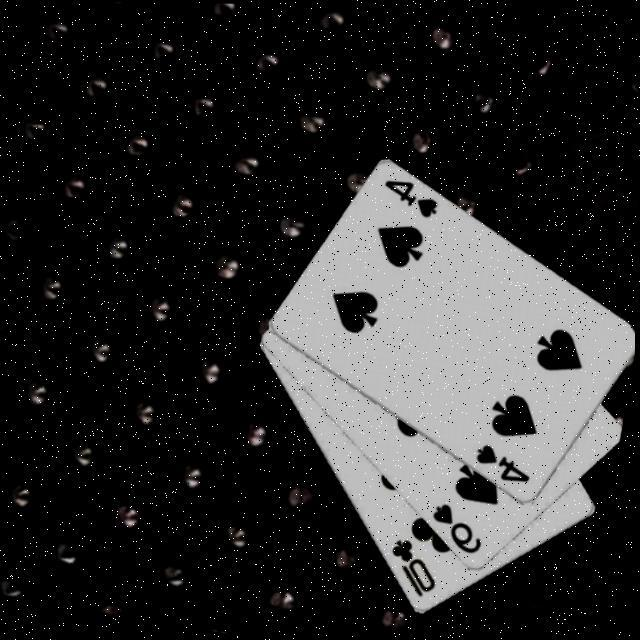10C: (383, 533, 449, 603)
4S: (472, 440, 540, 488), (379, 175, 447, 223)
6S: (428, 499, 494, 559)
